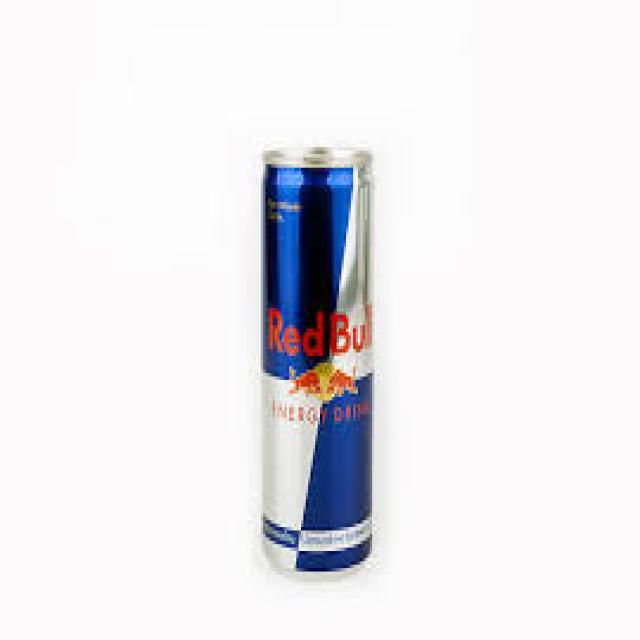red-bull: (256, 137, 374, 579)
